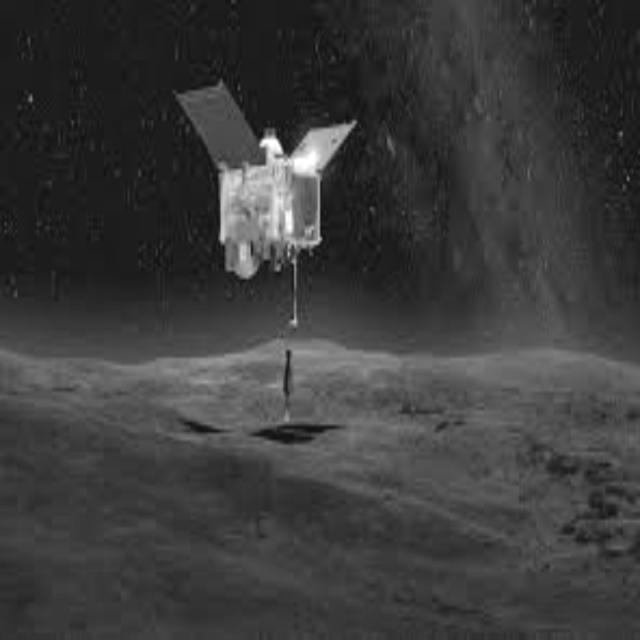medium_debris: (174, 71, 360, 382)
